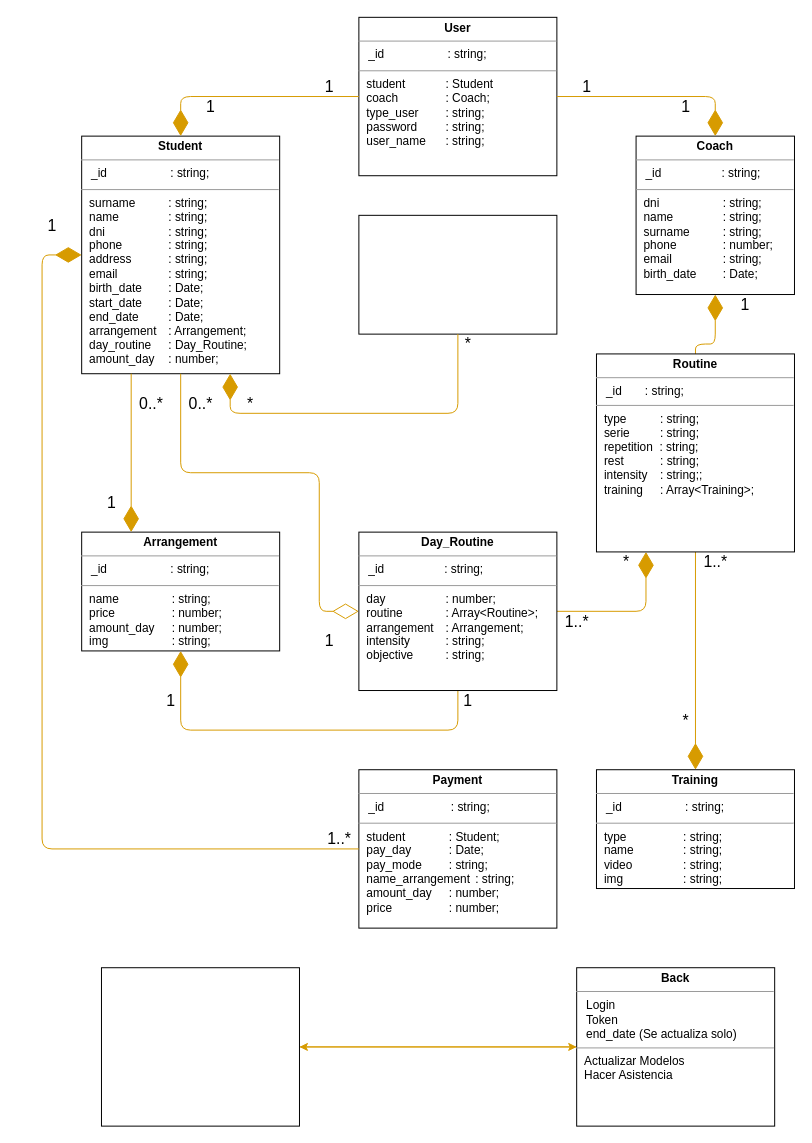
Some shapes in this 812 by 1143 pixel diagram are drawn without their labels. Each missing label, with the box of its shape:
Assistence _id : string; day : Date; student : Array<Student>;: (358, 214, 557, 334)
Front Login Actualizar Modelos basico medio avanzado: (100, 967, 299, 1126)
